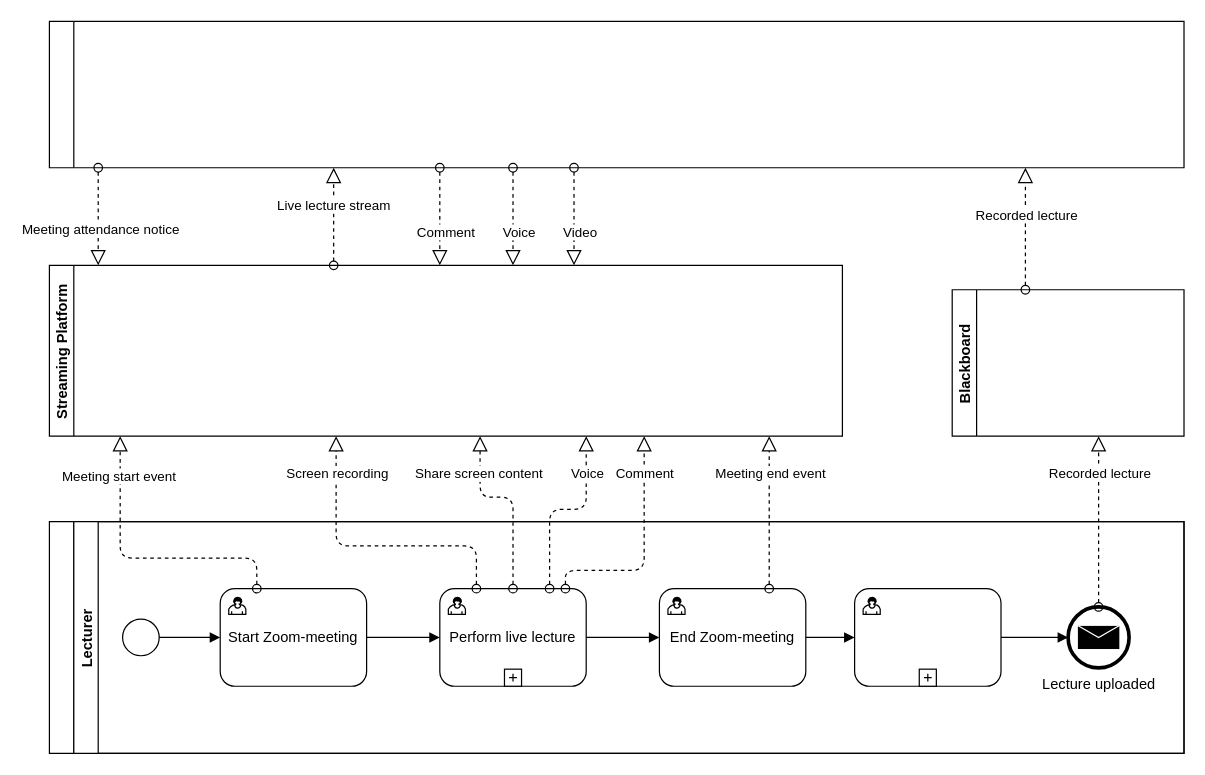
This 1205x775 diagram has some shape labels left out. The box of each missing label's shape, as (x1, y1, x2, y2) in pixels:
Online teaching process: (48, 520, 1184, 753)
Student: (48, 20, 1184, 168)
Upload lecture: (853, 587, 1001, 686)
